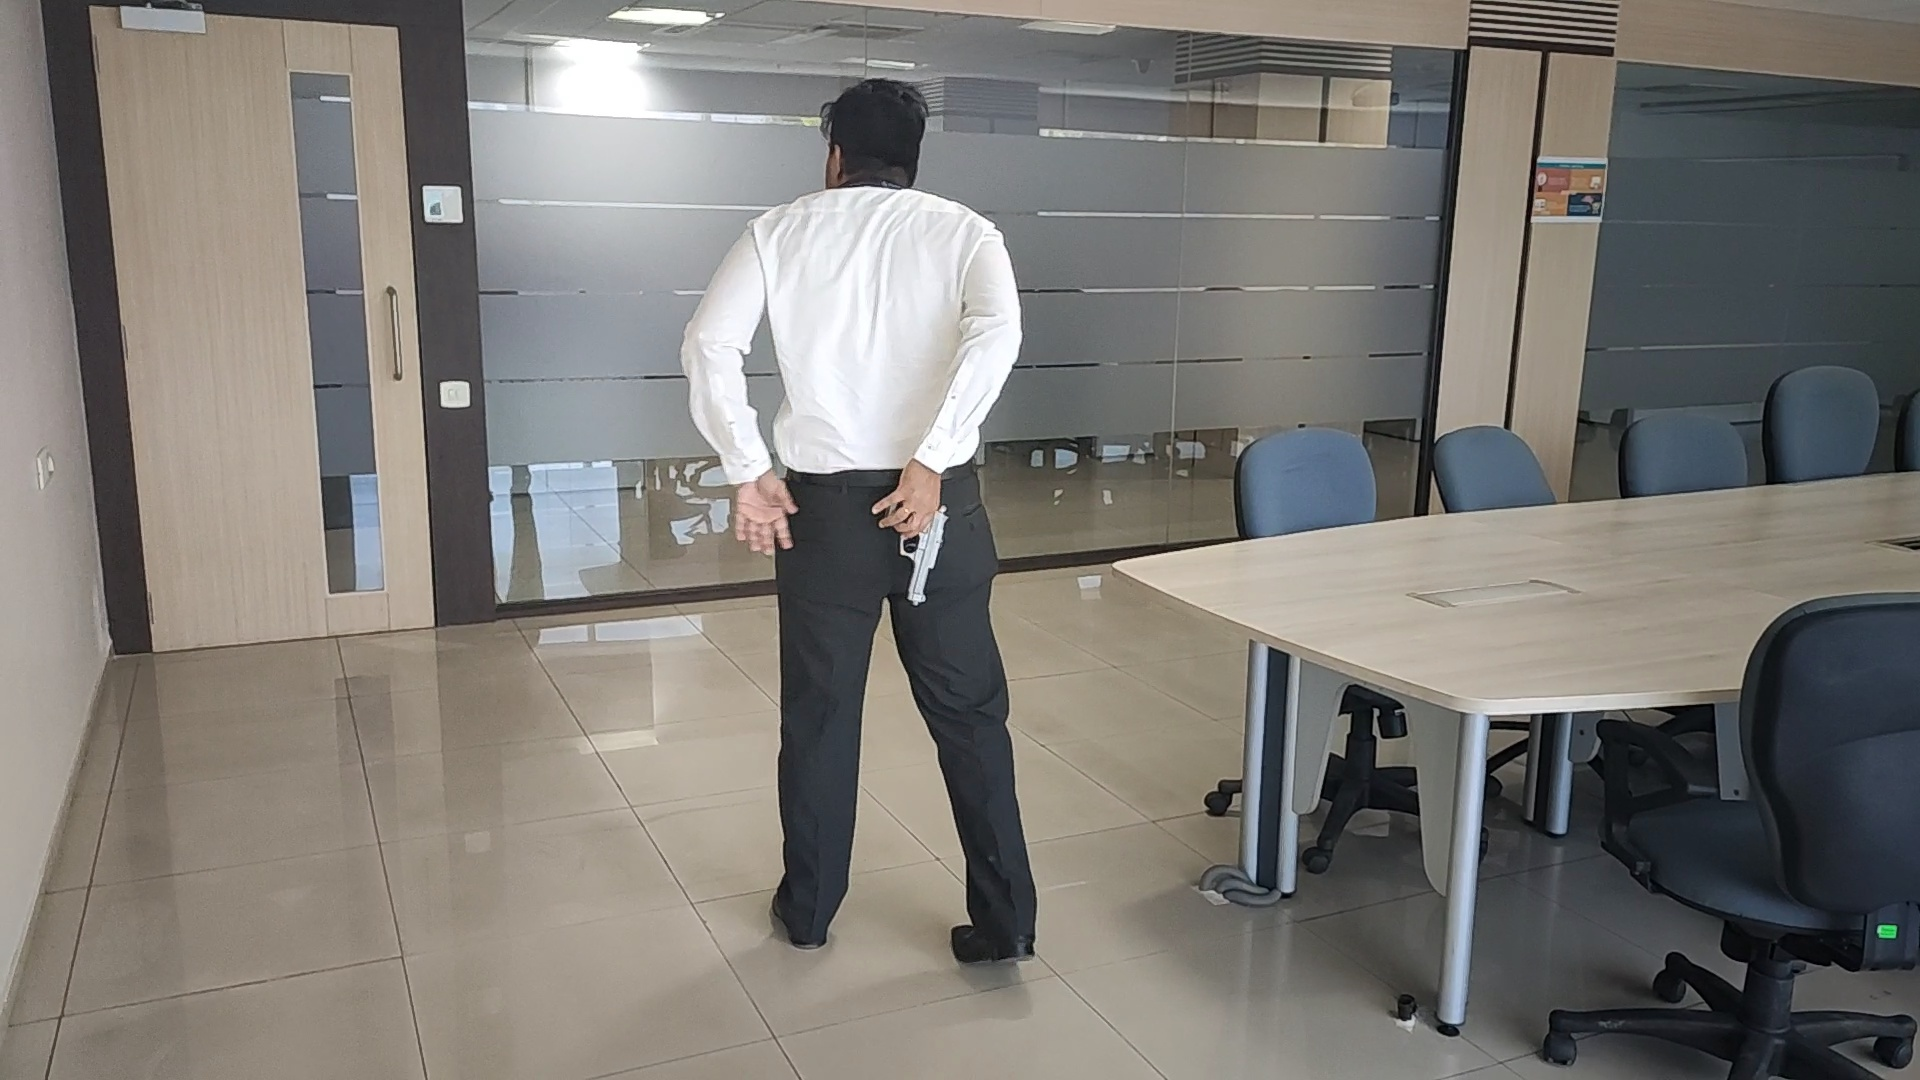gun: (898, 524, 944, 603)
